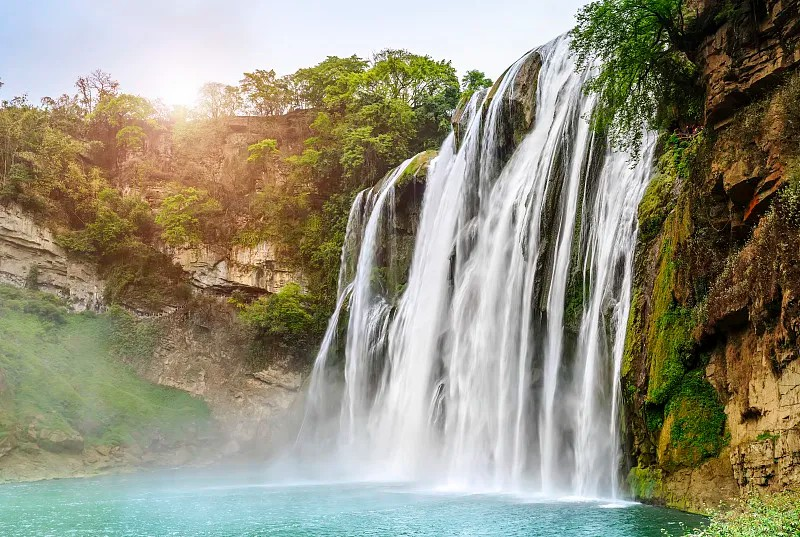Huangguoshu: (300, 31, 652, 508)
